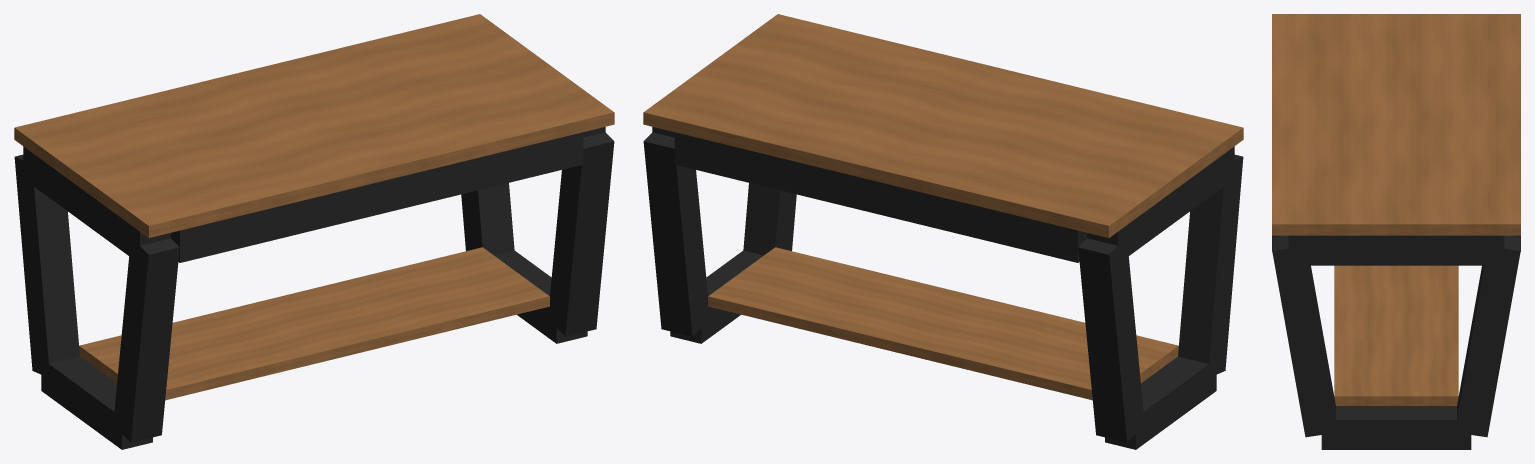
The model's file is mesa-living-nord-estante-roble-negro.glb.
3 renders of one model, left to right at view 1: azimuth 30°, elevation 25°; view 2: azimuth 150°, elevation 25°; view 3: azimuth 270°, elevation 25°, orthographic. The views are drawn at different scales.
Parts seen in each view (by area): view 1: Tapa de madera maciza 120 x 60 x 3 cm, Pata inclinada hacia adentro, perfil 80 x 80 mm (×4), Estante inferior de madera (proporción aproximada), Larguero longitudinal superior de hierro 80 x 80 mm, Travesaño inferior del trapecio, ancho exterior 44 cm (×2), Travesaño superior del trapecio, ancho exterior 60 cm; view 2: Tapa de madera maciza 120 x 60 x 3 cm, Pata inclinada hacia adentro, perfil 80 x 80 mm (×4), Estante inferior de madera (proporción aproximada), Larguero longitudinal superior de hierro 80 x 80 mm, Travesaño inferior del trapecio, ancho exterior 44 cm (×2), Travesaño superior del trapecio, ancho exterior 60 cm; view 3: Tapa de madera maciza 120 x 60 x 3 cm, Estante inferior de madera (proporción aproximada), Pata inclinada hacia adentro, perfil 80 x 80 mm (×2), Travesaño superior del trapecio, ancho exterior 60 cm, Travesaño inferior del trapecio, ancho exterior 44 cm.
Part boxes in pixels (x1,y1,x2,y2): Tapa de madera maciza 120 x 60 x 3 cm: (14, 14, 614, 237); Pata inclinada hacia adentro, perfil 80 x 80 mm (×4): (14, 132, 614, 442); Estante inferior de madera (proporción aproximada): (79, 247, 549, 400); Larguero longitudinal superior de hierro 80 x 80 mm: (171, 132, 583, 262); Travesaño inferior del trapecio, ancho exterior 44 cm (×2): (41, 250, 587, 449); Travesaño superior del trapecio, ancho exterior 60 cm: (23, 146, 170, 263); Tapa de madera maciza 120 x 60 x 3 cm: (643, 14, 1243, 237); Pata inclinada hacia adentro, perfil 80 x 80 mm (×4): (643, 132, 1243, 442); Estante inferior de madera (proporción aproximada): (708, 247, 1178, 400); Larguero longitudinal superior de hierro 80 x 80 mm: (674, 132, 1086, 262); Travesaño inferior del trapecio, ancho exterior 44 cm (×2): (670, 250, 1216, 449); Travesaño superior del trapecio, ancho exterior 60 cm: (1087, 146, 1234, 263); Tapa de madera maciza 120 x 60 x 3 cm: (1272, 14, 1520, 235); Estante inferior de madera (proporción aproximada): (1334, 265, 1458, 405); Pata inclinada hacia adentro, perfil 80 x 80 mm (×2): (1272, 235, 1520, 437); Travesaño superior del trapecio, ancho exterior 60 cm: (1288, 235, 1504, 265); Travesaño inferior del trapecio, ancho exterior 44 cm: (1321, 406, 1471, 449).
Bounding box in the file's own units: 1.2 × 0.6 × 0.6.
Materials: 2 (1 with a texture image).
